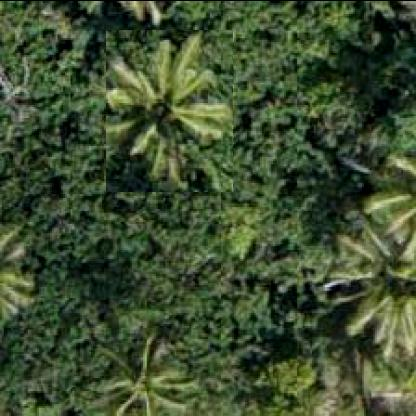coconut tree: (105, 28, 233, 191), (325, 150, 415, 359)
